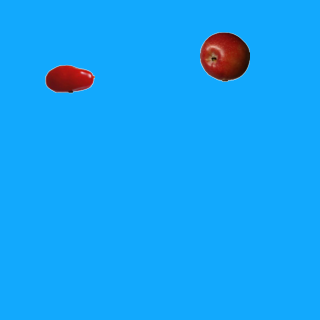Apple Braeburn: (199, 31, 249, 81)
Tomato 2: (44, 53, 94, 103)
